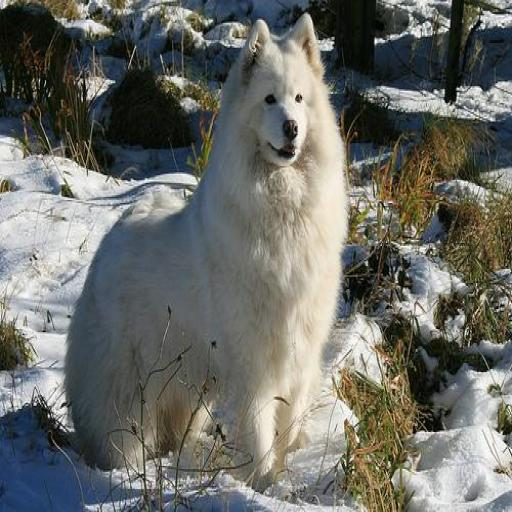dog_face: (246, 16, 319, 170)
